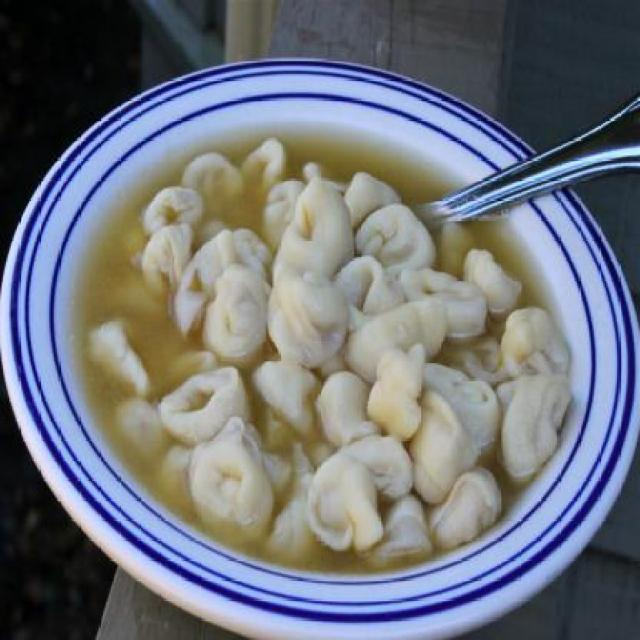Tortellini in broth: (152, 140, 460, 528)
